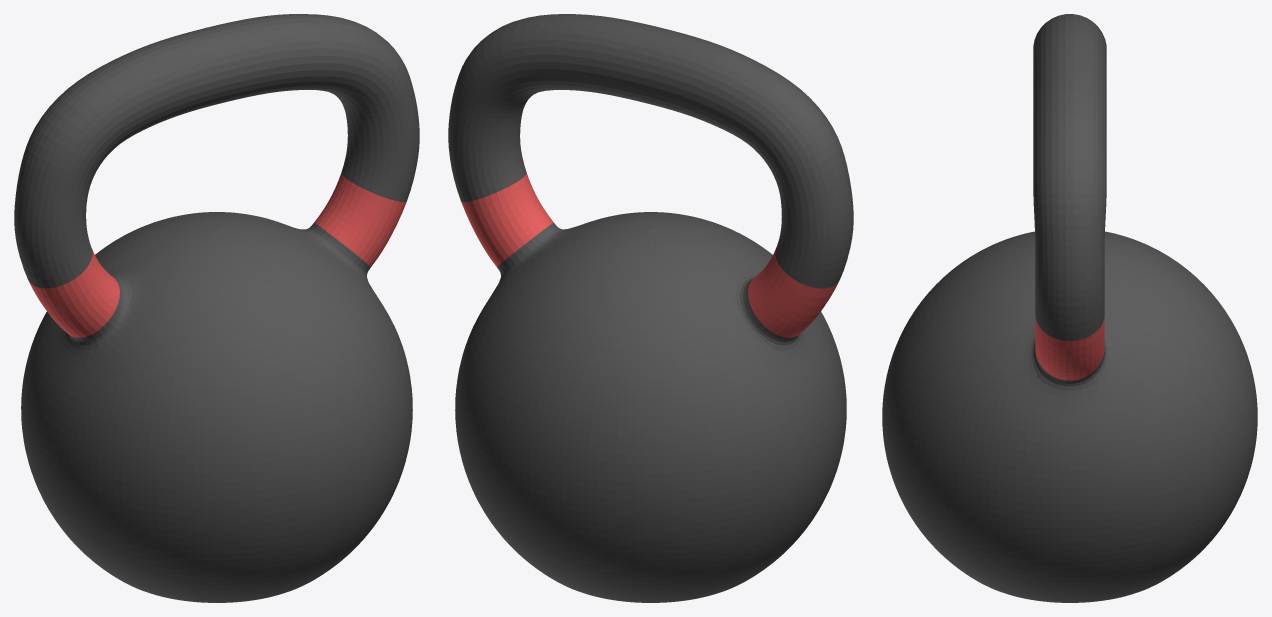
3 views of the same model, side by side, from view 1: azimuth 30°, elevation 25°; view 2: azimuth 150°, elevation 25°; view 3: azimuth 270°, elevation 25° (orthographic). The views are drawn at different scales.
Parts seen in each view (by area): view 1: kettlebell_0; view 2: kettlebell_0; view 3: kettlebell_0.
Part boxes in pixels (bbox=[...]): kettlebell_0: bbox=[14, 14, 419, 602]; kettlebell_0: bbox=[448, 14, 853, 602]; kettlebell_0: bbox=[882, 14, 1257, 602].
Size of the model in its own units: 1.38 by 1.76 by 1.18.
